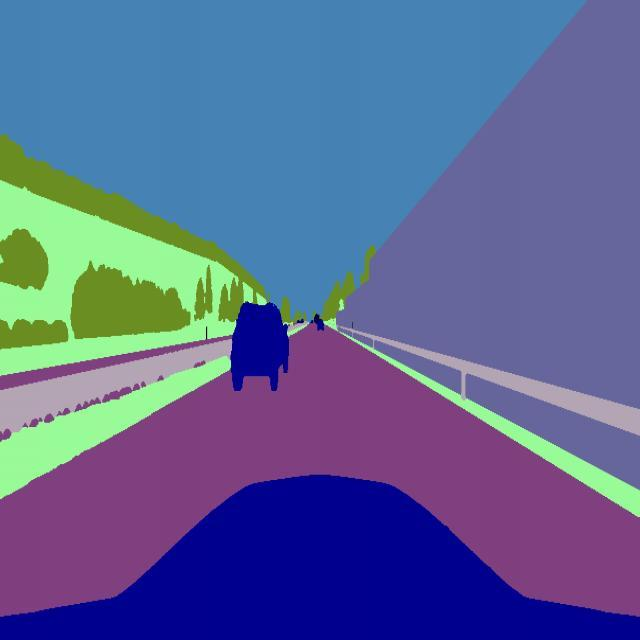safe: (229, 296, 292, 392)
